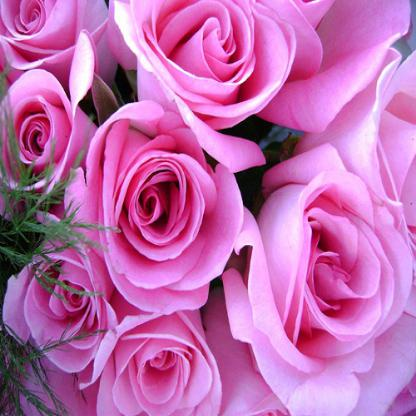ROSE-MAWAR: (7, 2, 416, 416)
